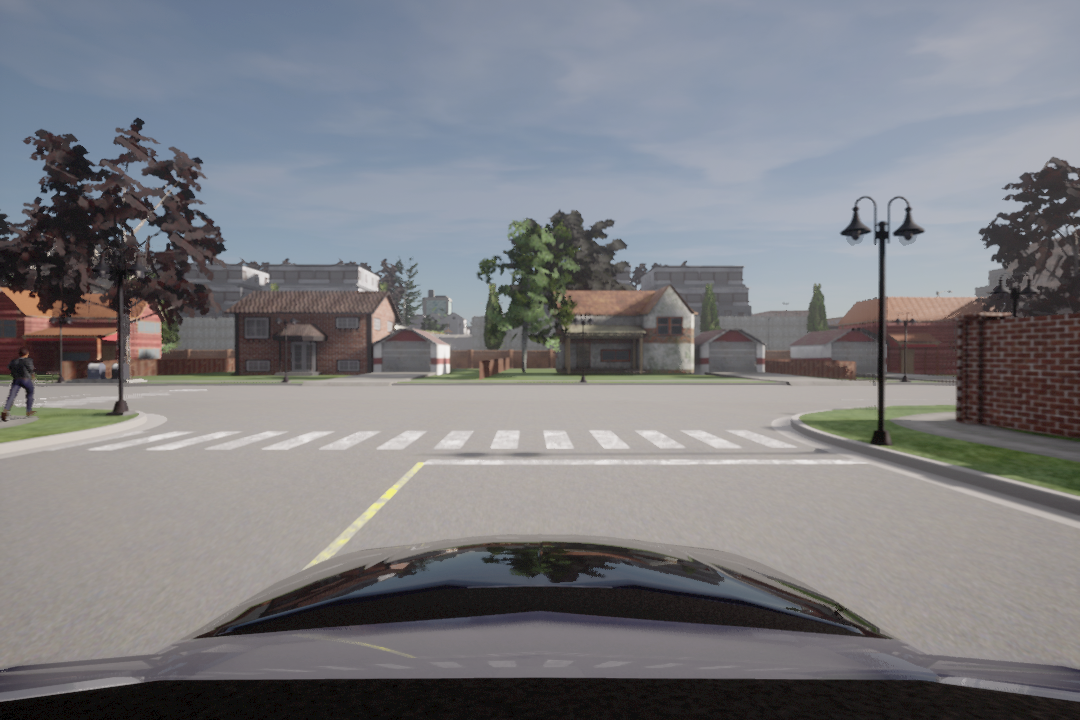walkside: (89, 419, 828, 454)
